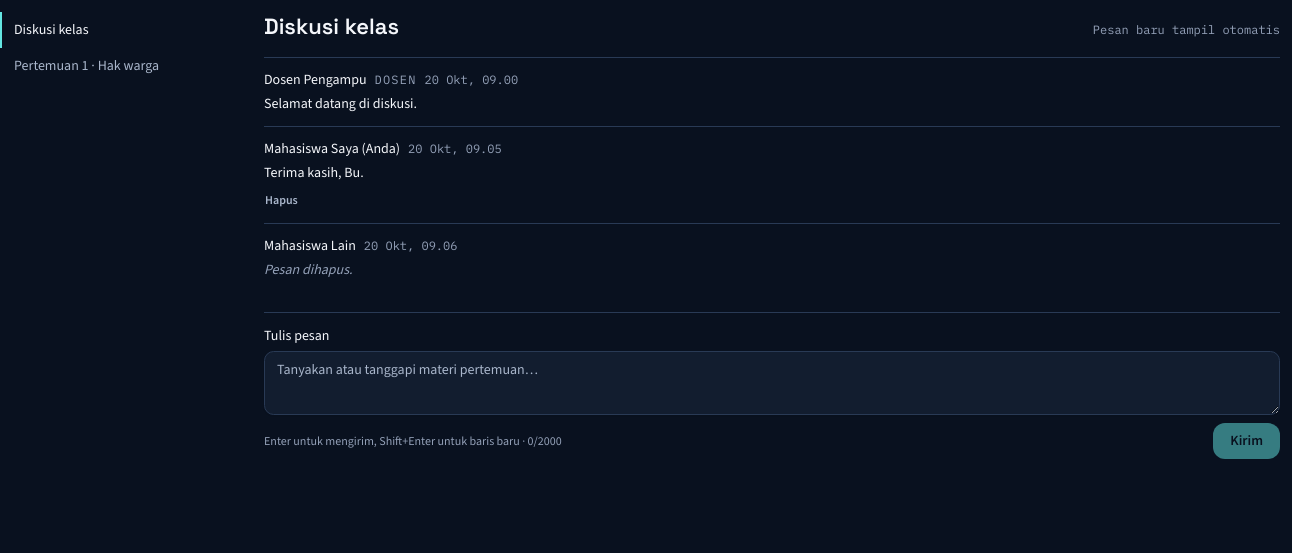
it: ClassDiscussion › mengirim pesan dan menampilkannya tanpa menunggu realtime
Type "Pertanyaan saya." into the text box labelled "Tulis pesan" at {"x": 772, "y": 383}, box [264,351,1280,415]
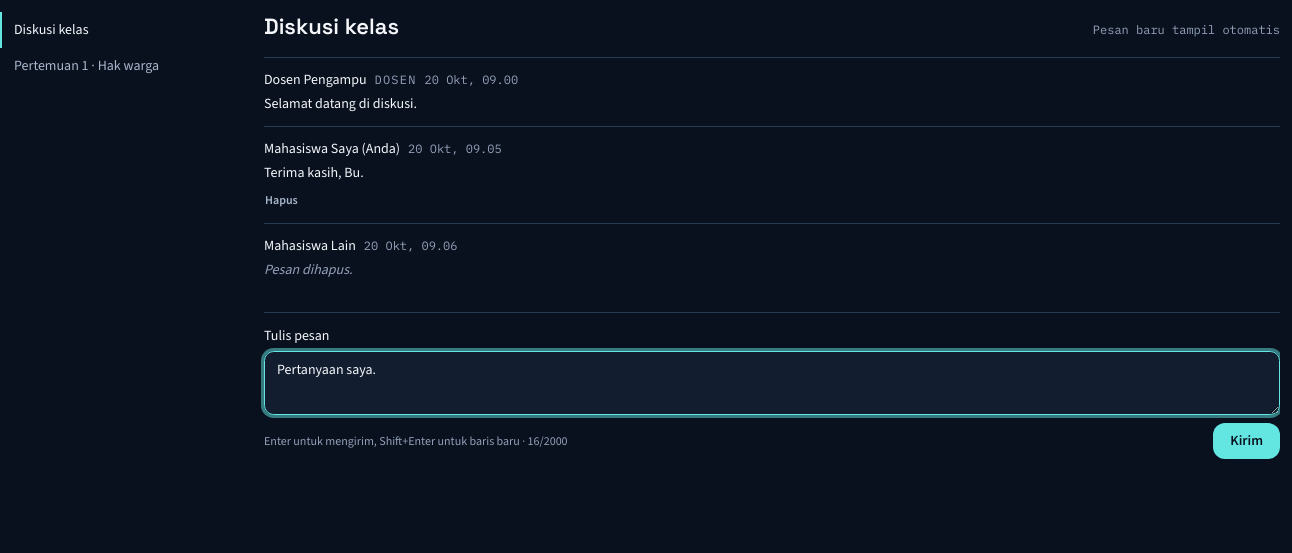
Click the button "Kirim" at {"x": 1247, "y": 441}, box [1213,423,1280,459]
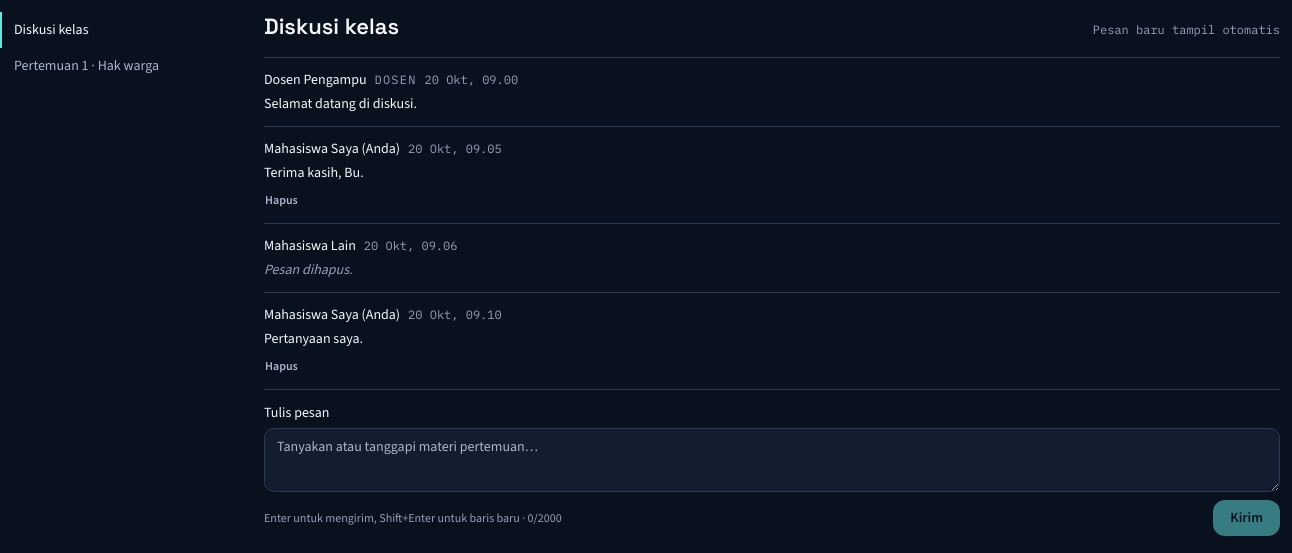
Now the text "Pertanyaan saya." is shown, box [264,329,363,348]
Now the text box labelled "Tulis pesan" is empty, box [264,428,1280,492]
